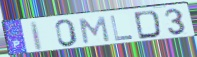0: (54, 19, 79, 48)
3: (164, 7, 188, 36)
D: (133, 10, 163, 41)
I: (31, 20, 44, 53)
L: (109, 15, 135, 42)
M: (77, 15, 111, 45)
